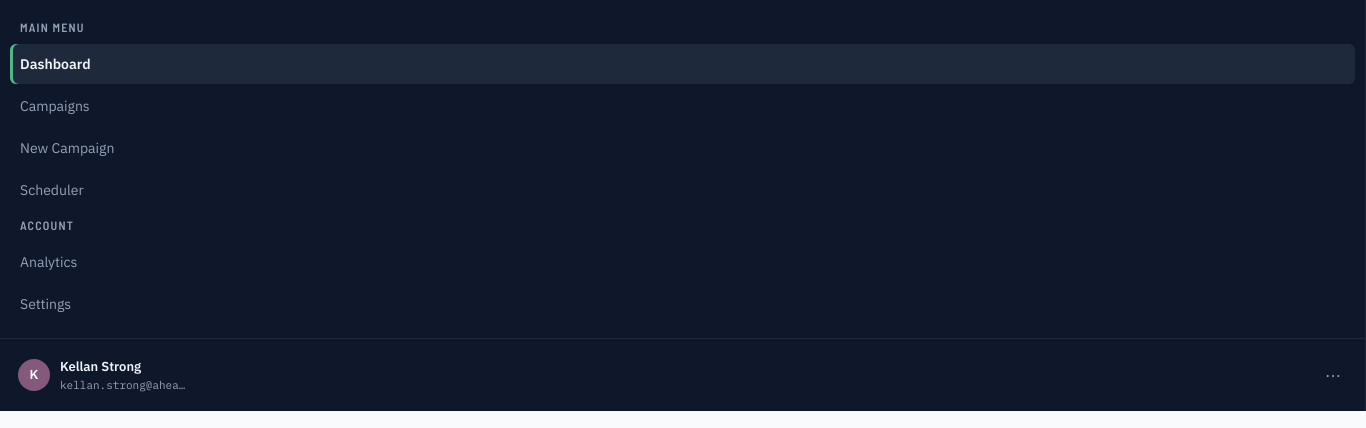
Test case: Sidebar user menu › shows the logout panel when the ellipsis button is clicked
Step 1. Click the button named "user menu" → (1333, 375), box [1319,360,1347,390]
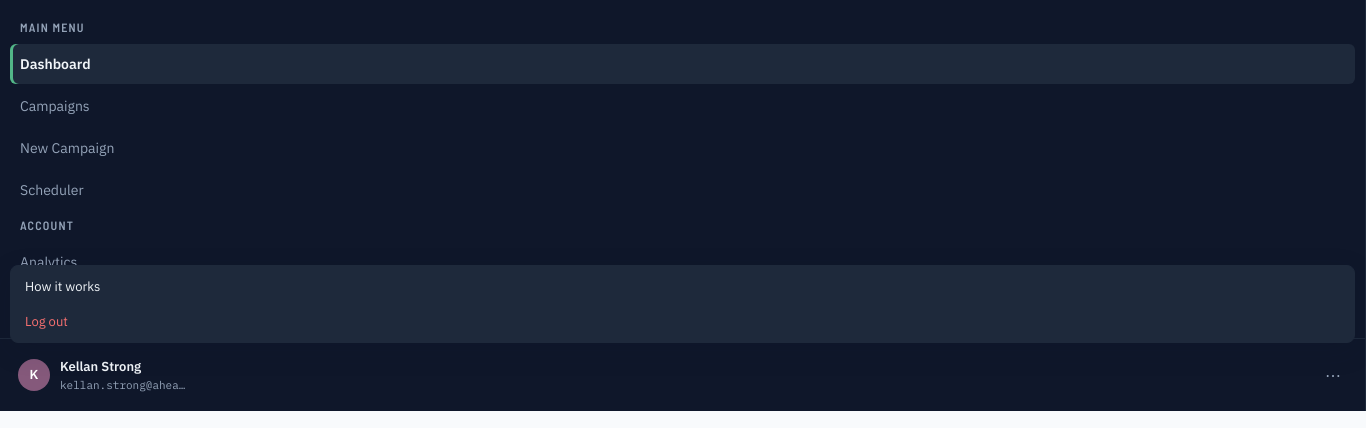
Expected: the menu is shown, [10,265,1355,343]
Expected: the menu item "Log out" is shown, [15,304,1350,338]
